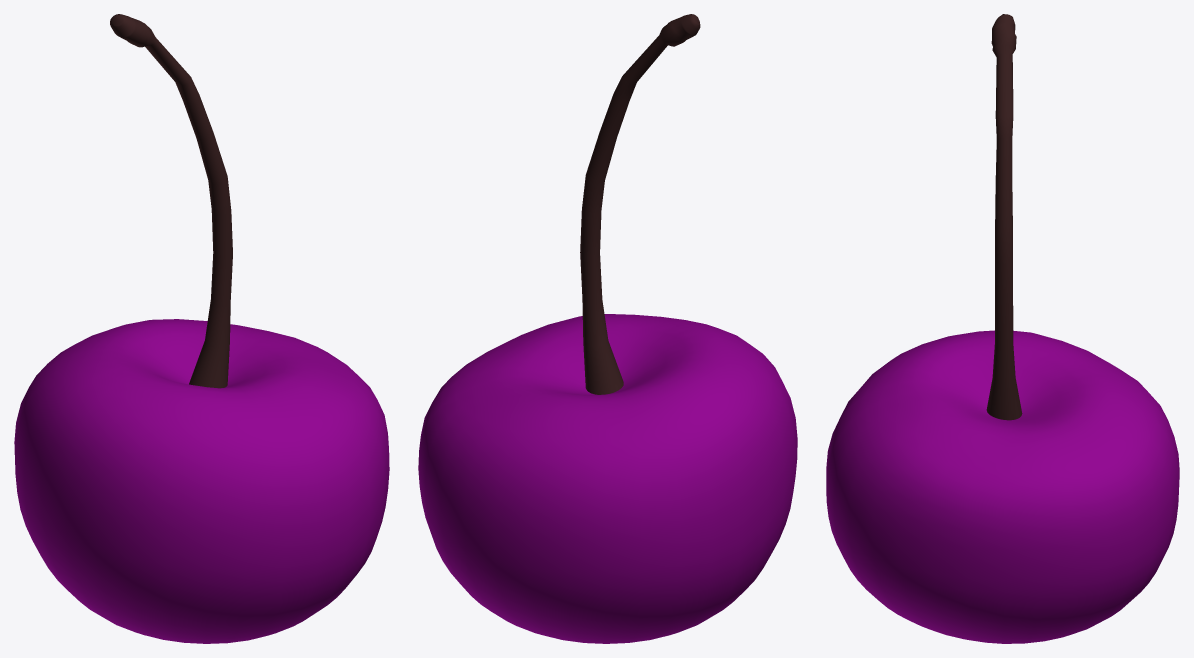
Rendered from BerryFinal.fbx.
The picture shows the model from 3 angles, left to right: view 1: azimuth 30°, elevation 25°; view 2: azimuth 150°, elevation 25°; view 3: azimuth 270°, elevation 25°; orthographic projection. The views are drawn at different scales.
Parts seen in each view (by area): view 1: pSphere1, pCylinder1; view 2: pSphere1, pCylinder1; view 3: pSphere1, pCylinder1.
Part boxes in pixels (x1,y1,x2,y2): pSphere1: [14, 319, 389, 643]; pCylinder1: [110, 14, 232, 388]; pSphere1: [418, 314, 797, 643]; pCylinder1: [580, 14, 700, 394]; pSphere1: [826, 330, 1179, 643]; pCylinder1: [986, 14, 1022, 420].
Size of the model in its own units: 1.85 by 3.45 by 1.94.
